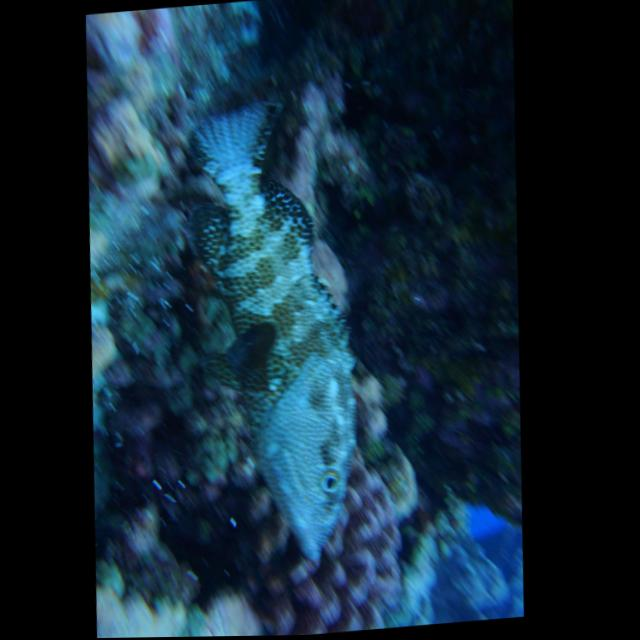Groupers: (158, 87, 383, 576)
